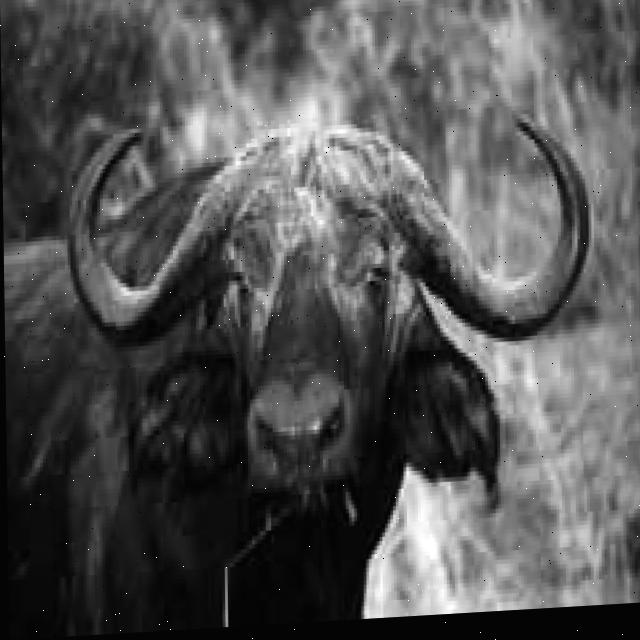Buffalo: (5, 102, 591, 635)
